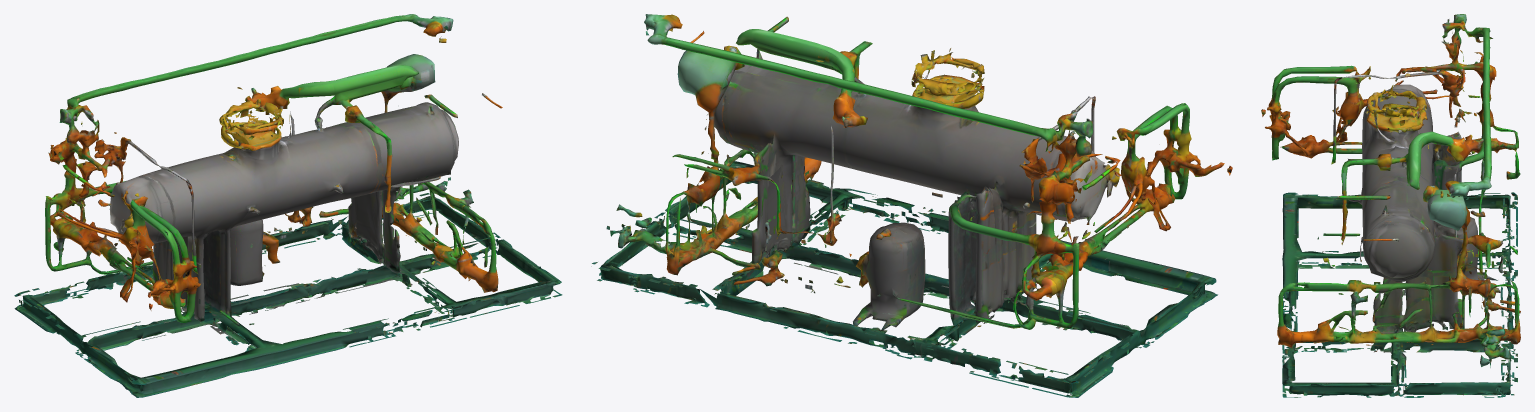
Rendered from separator.glb.
3 renders of one model, left to right at view 1: azimuth 30°, elevation 25°; view 2: azimuth 150°, elevation 25°; view 3: azimuth 270°, elevation 25°, orthographic. The views are drawn at different scales.
Bounding box in the file's own units: 2 × 1 × 1.14.
Materials: 1 (1 with a texture image).
